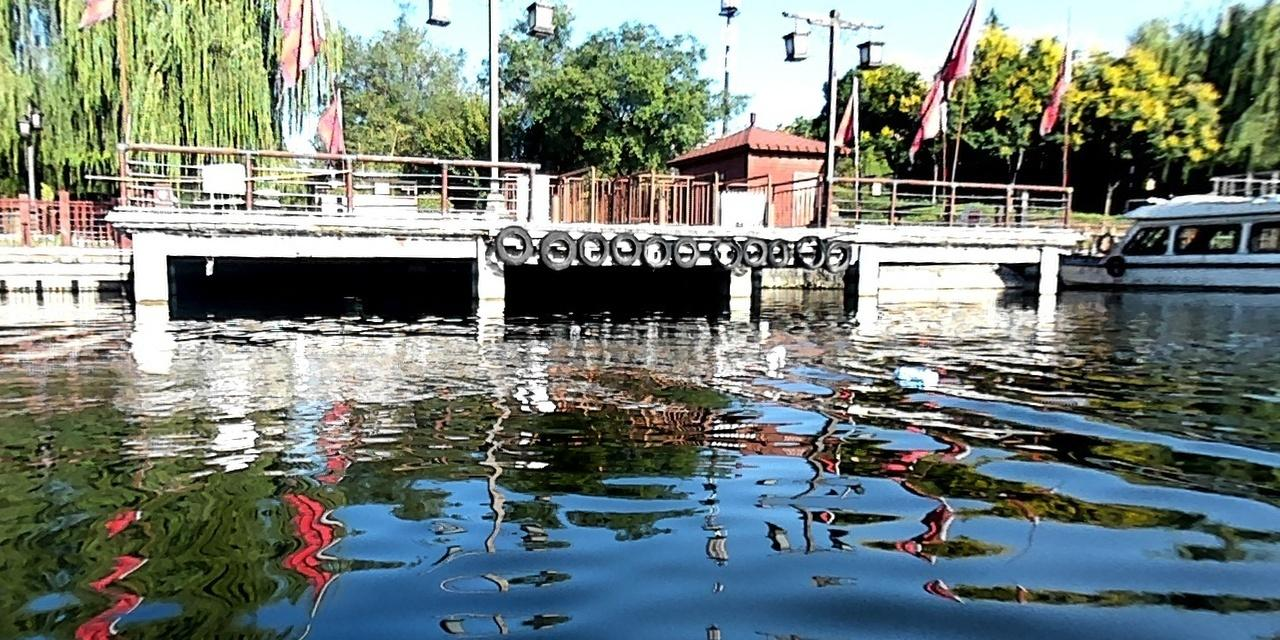bottle: (892, 364, 936, 380)
